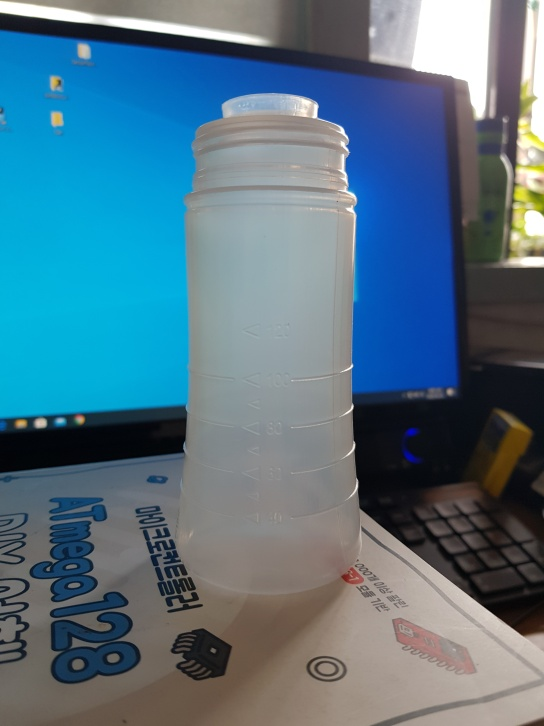Plastic: (176, 88, 366, 593)
